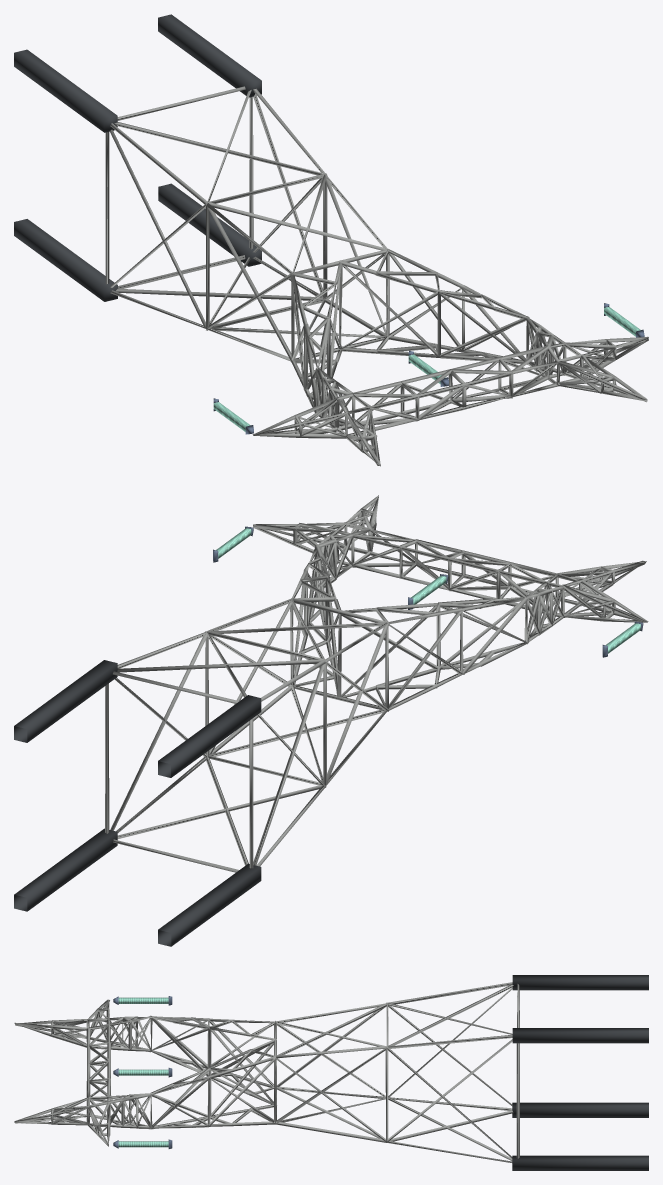
Rendered from pylon_large.obj.
3 views of the same model, one above another, from view 1: azimuth 30°, elevation 25°; view 2: azimuth 150°, elevation 25°; view 3: azimuth 270°, elevation 25° (orthographic). The views are drawn at different scales.
Visible parts, largest first — view 1: Pylon_Large; view 2: Pylon_Large; view 3: Pylon_Large.
Part boxes in pixels (x1,y1,x2,y2): Pylon_Large: [14, 14, 648, 466]; Pylon_Large: [14, 495, 648, 946]; Pylon_Large: [14, 975, 648, 1170].
Bounding box in the file's own units: 27.75 × 12.2 × 50.86.
1 material, 1 textured.
